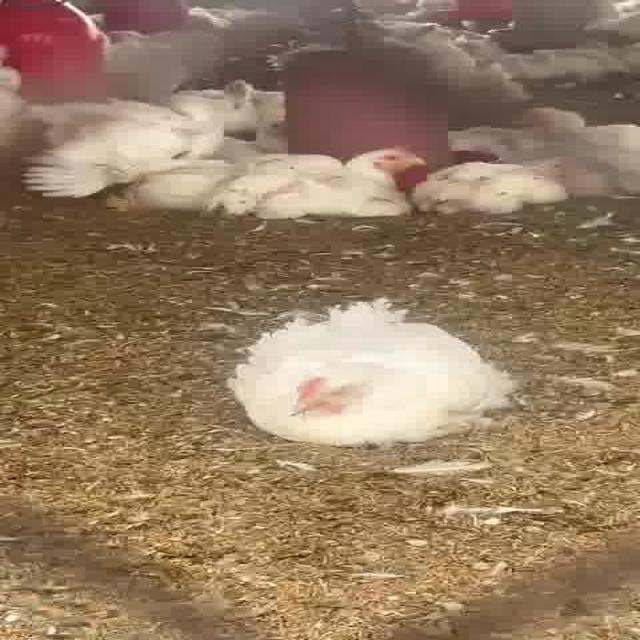AbNormal: (216, 302, 517, 447), (216, 146, 434, 225), (430, 150, 576, 214)
